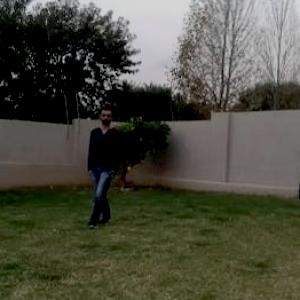follow: (87, 106, 117, 224)
